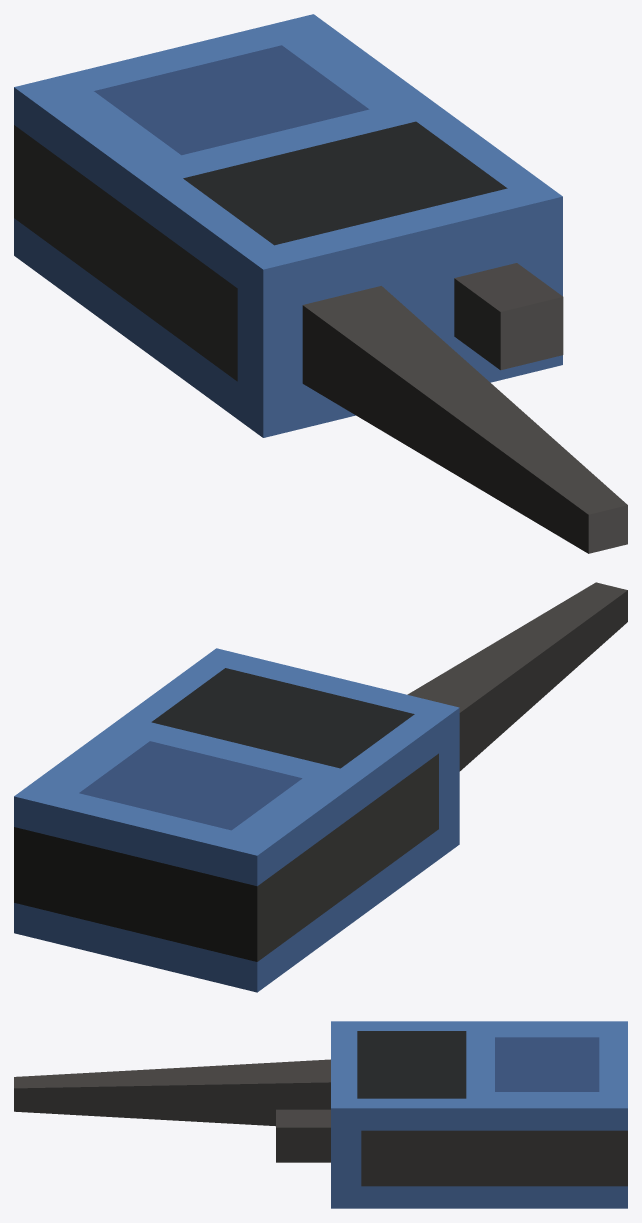
The model's file is AI_Item_WalkieTalkie.fbx.
3 views of the same model, one above another, from view 1: azimuth 30°, elevation 25°; view 2: azimuth 150°, elevation 25°; view 3: azimuth 270°, elevation 25° (orthographic). The views are drawn at different scales.
Visible parts, largest first — view 1: AI_Item_WalkieTalkie; view 2: AI_Item_WalkieTalkie; view 3: AI_Item_WalkieTalkie.
Boxes of the visible parts, <box> form: AI_Item_WalkieTalkie: <box>14,14,627,553</box>; AI_Item_WalkieTalkie: <box>14,582,627,992</box>; AI_Item_WalkieTalkie: <box>14,1021,627,1208</box>.
Size of the model in its own units: 0.2867 by 0.154 by 0.8541.
